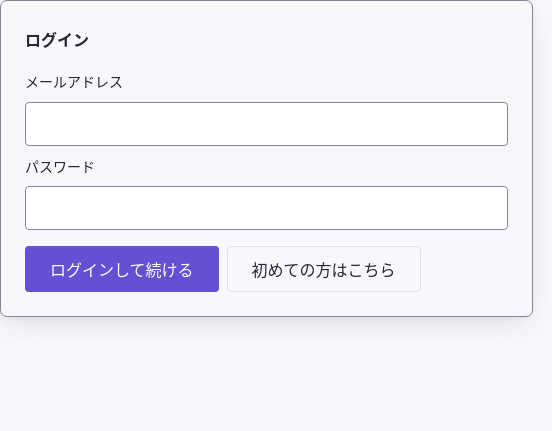
Test: AuthPanel › shows the Japanese rate-limit message for a Supabase HTTP 429
The width and height of the screenshot is (552, 431).
Click the button "初めての方はこちら" at (324, 269), box [226,246,420,292]
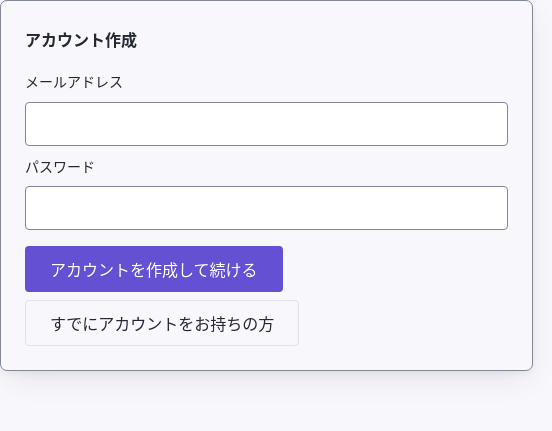
Type "private-person@example.com" into the field labelled "メールアドレス" at (266, 124), box [25,102,508,146]
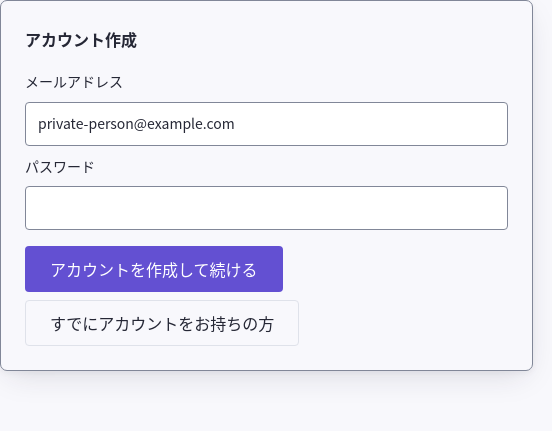
Type "new-password" into the password field labelled "パスワード" at (266, 208), box [25,186,508,230]
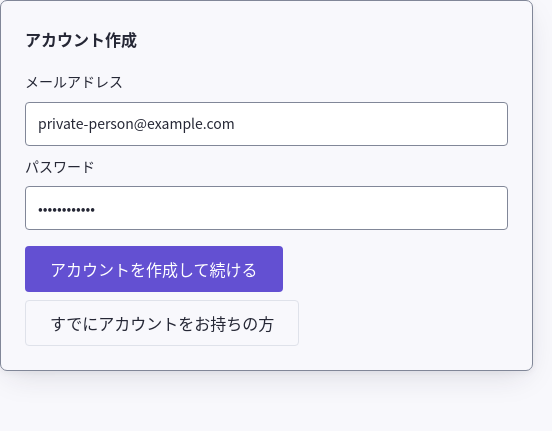
Click the button "アカウントを作成して続ける" at (154, 269), box [25,246,282,292]
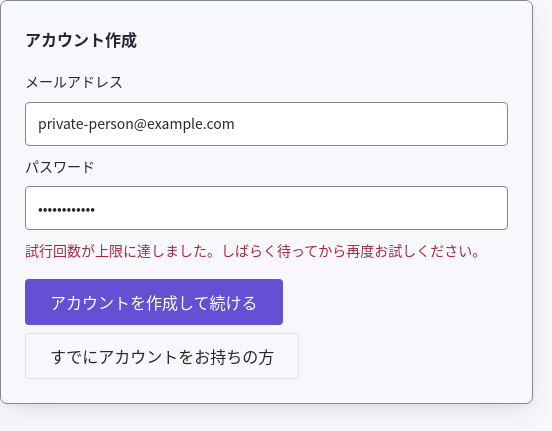
Expected: the message reads "試行回数が上限に達しました。しばらく待ってから再度お試しください。", [25,240,486,260]
